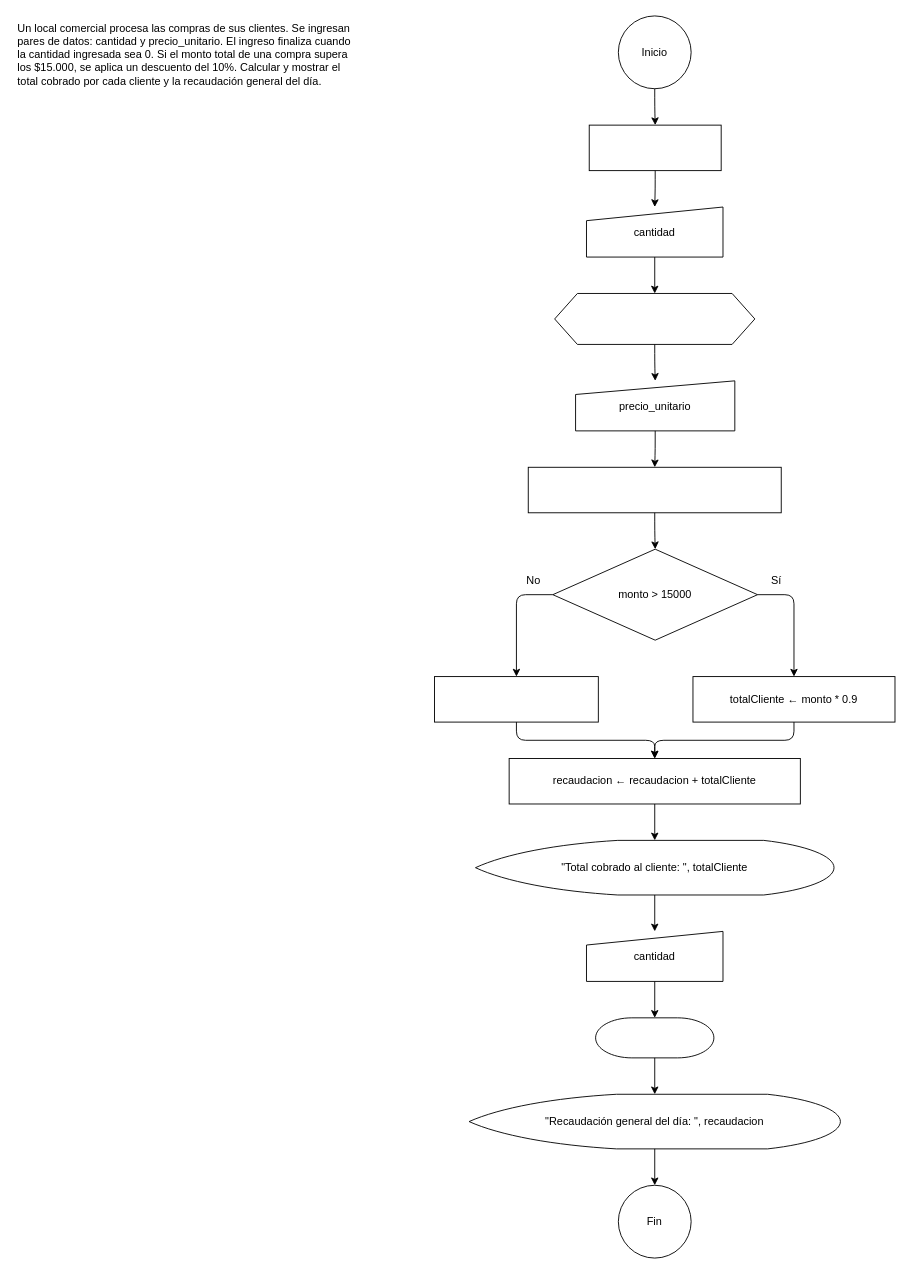
The diagram is 911 pixels wide and 1274 high, and some of its shapes have lost their labels. The shapes that lost their labels are listed below. From the top down, each one's centre as x and y in pixels, then its label:
the point at 654,147: recaudacion ← 0
the point at 654,318: MQ cantidad != 0
the point at 654,489: monto ← cantidad * precio_unitario
the point at 516,699: totalCliente ← monto
the point at 654,1037: Fin (MQ)
